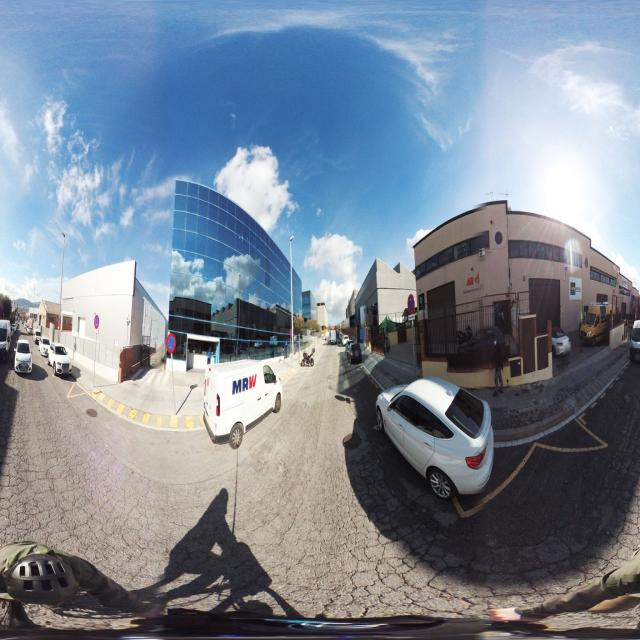forb_stopping: (166, 333, 176, 354)
forb_waiting: (407, 294, 415, 314), (94, 315, 99, 329)
